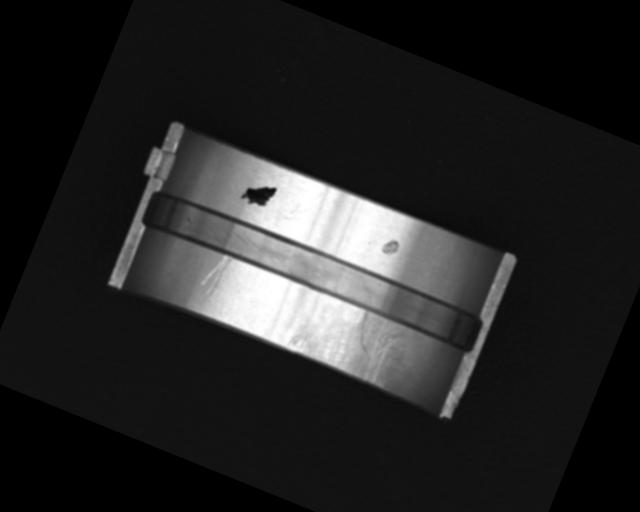blot: (238, 176, 278, 213)
bruise: (379, 235, 403, 258)
gap: (138, 183, 487, 356)
nick: (197, 250, 232, 300)
scratch: (286, 288, 419, 393)
